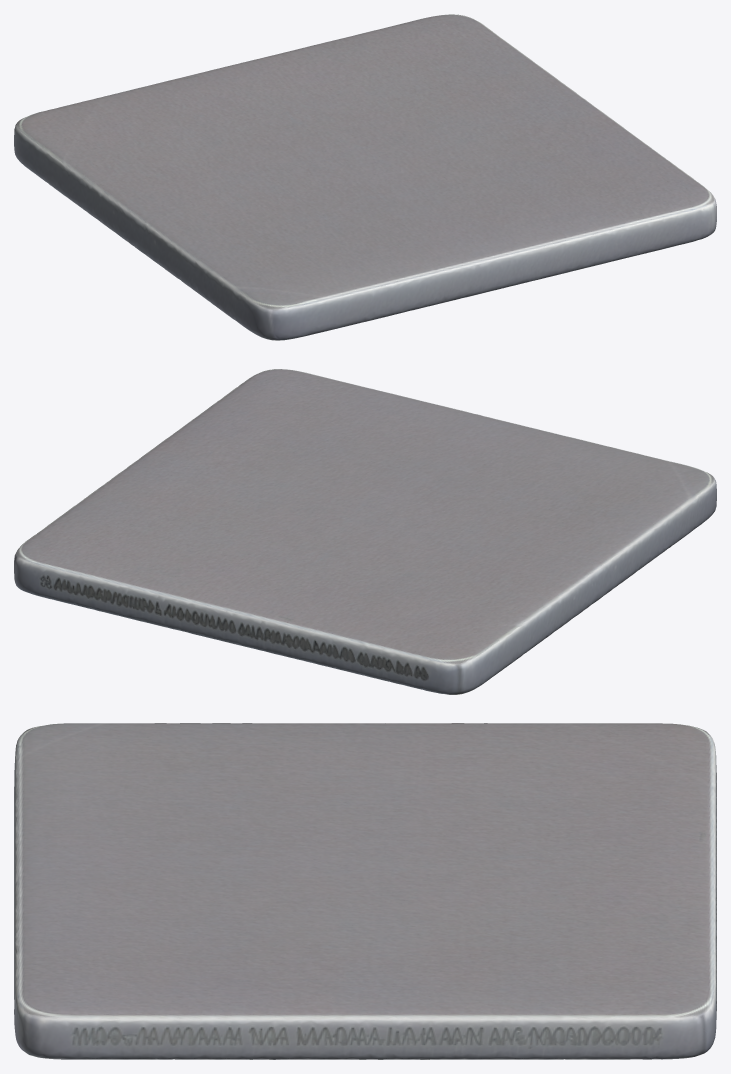
File: DDP_기단.glb
The picture shows the model from 3 angles, top to bottom: view 1: azimuth 30°, elevation 25°; view 2: azimuth 150°, elevation 25°; view 3: azimuth 270°, elevation 25°; orthographic projection. The views are drawn at different scales.
Visible parts, largest first — view 1: texture_mapping; view 2: texture_mapping; view 3: texture_mapping.
Boxes of the visible parts, x1,y1,x2,y2 form: texture_mapping: [14, 14, 716, 340]; texture_mapping: [14, 369, 716, 694]; texture_mapping: [14, 723, 716, 1059].
Bounding box in the file's own units: 1 × 0.0784 × 0.9998.
Materials: 1 (1 with a texture image).
